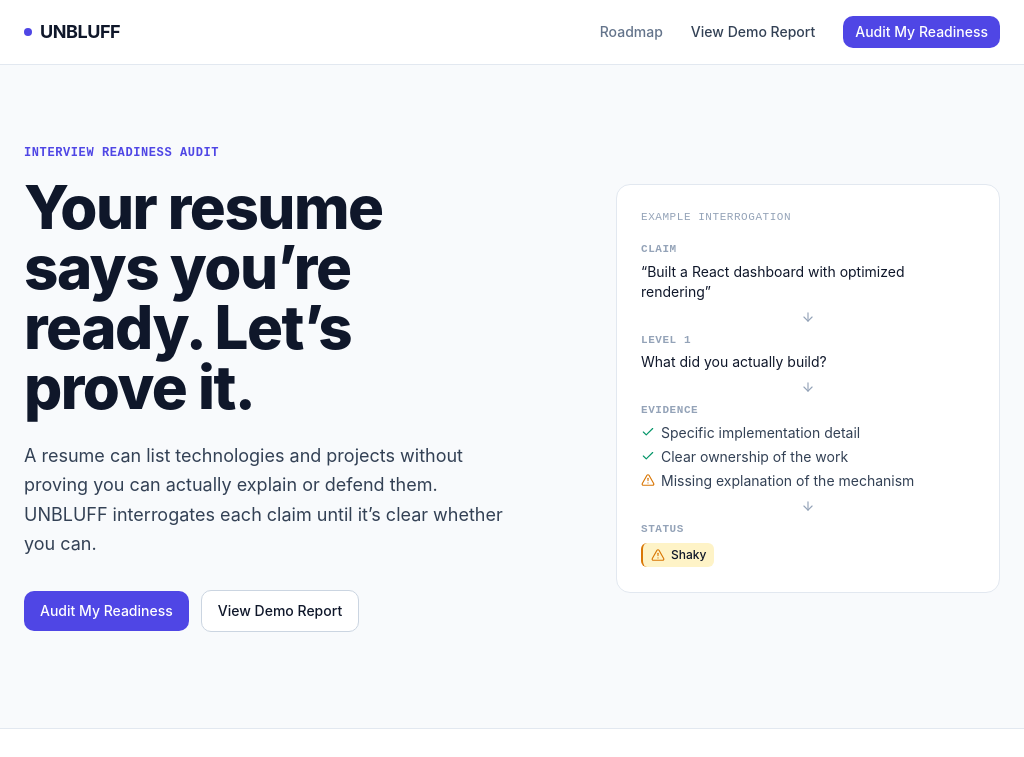
Test case: Landing — demo report flow › shows the loading state, then routes to the report with real data on success
The image size is (1024, 757).
Step 1. Click the button "View Demo Report" next to "Roadmap" → click(753, 32), box [679,16,827,48]
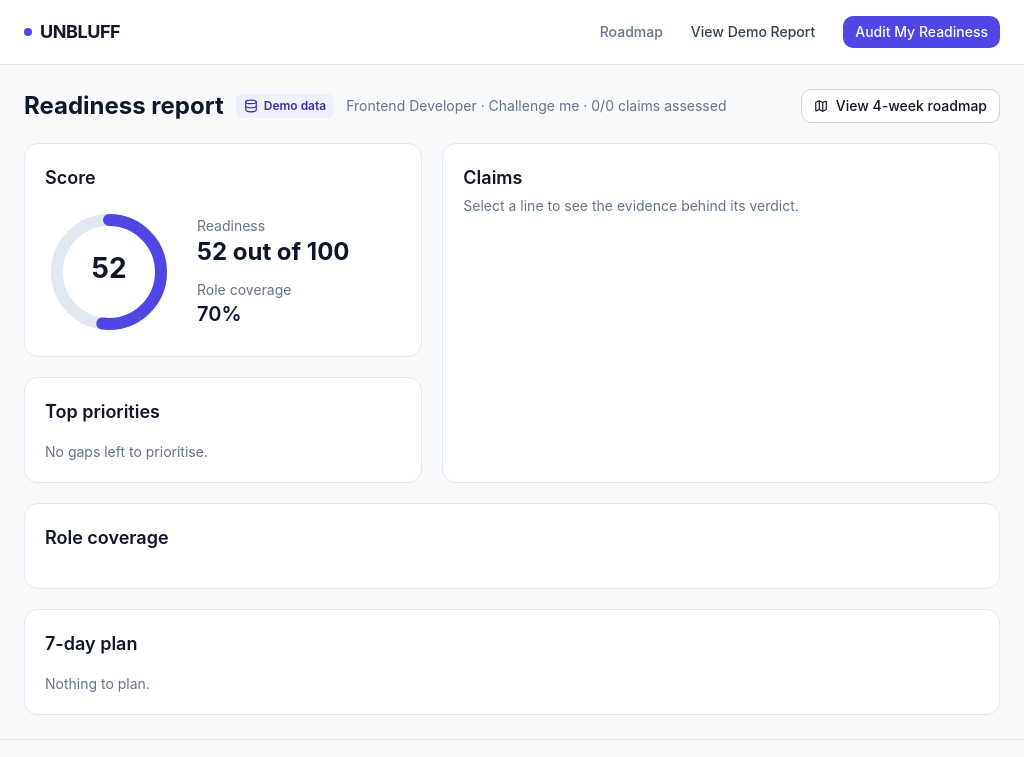
Check: the heading "Readiness report" is shown, box [24,90,224,122]
Check: the text "Demo data" is shown, box [236,94,334,118]
Check: the text "Frontend Developer · Challenge me · 0/0 claims assessed" is shown, box [346,96,726,116]
